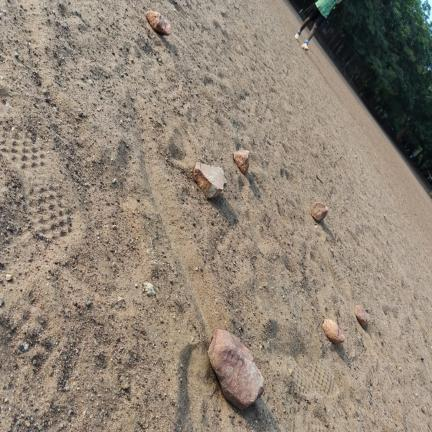Rocks: (208, 330, 264, 409), (194, 162, 227, 199), (146, 11, 170, 35), (323, 320, 344, 343), (234, 151, 249, 174), (310, 202, 328, 221), (355, 305, 368, 328), (144, 283, 155, 296), (120, 376, 129, 390), (17, 344, 24, 353), (5, 103, 12, 109), (6, 274, 12, 281), (24, 343, 29, 351), (0, 298, 4, 307), (86, 300, 91, 307), (112, 178, 116, 183)
